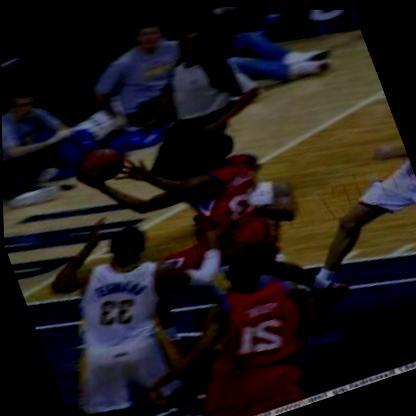basketball: (72, 136, 129, 187)
